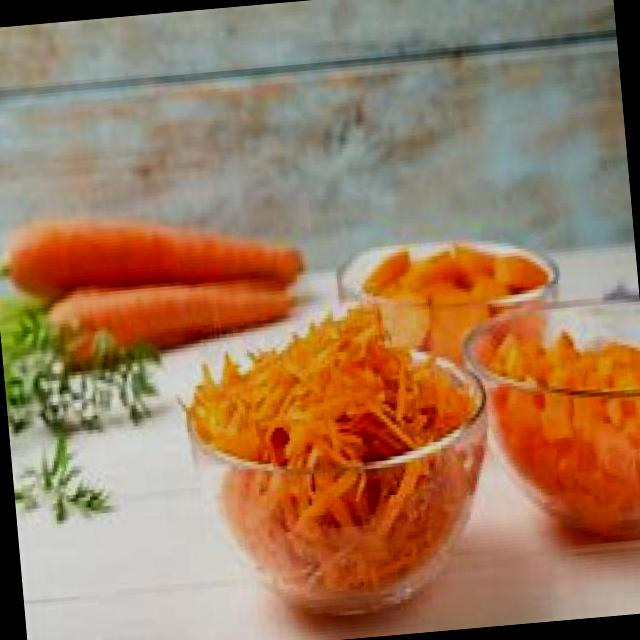carrot: (2, 198, 302, 302), (42, 272, 304, 356)
